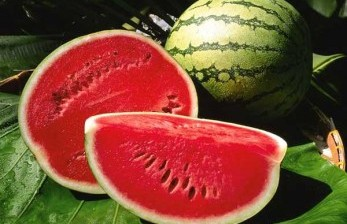Semangka: (40, 34, 179, 160), (82, 126, 293, 207)
